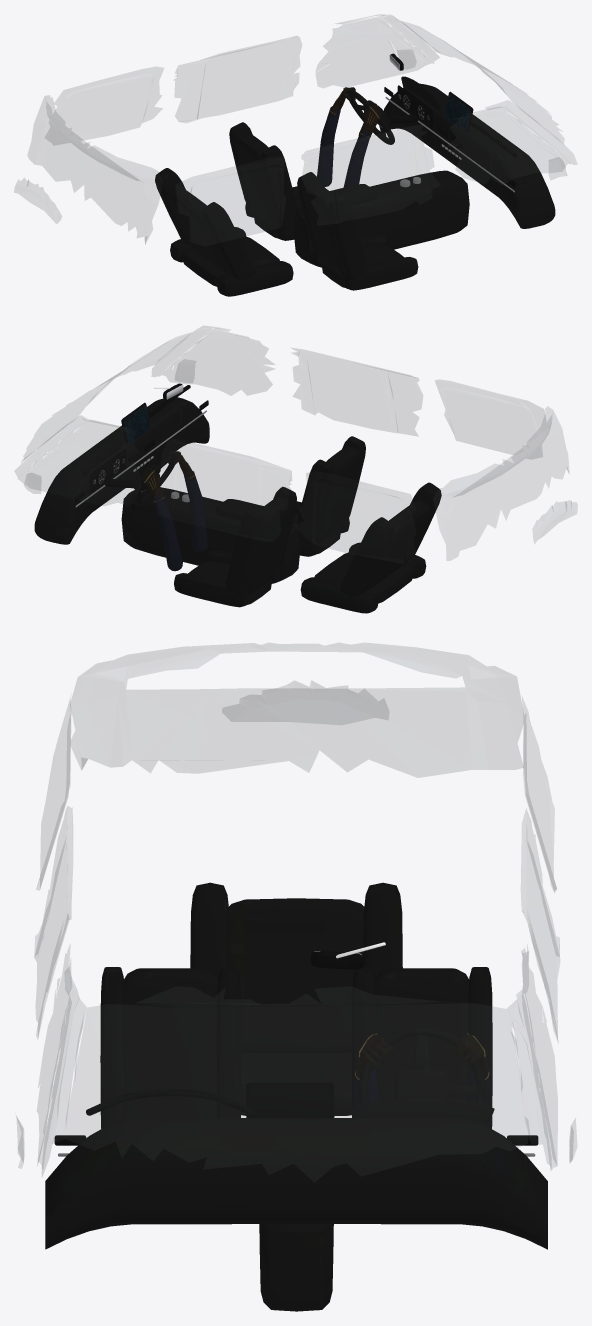
File: rb_ridgeback_cockpit_low.glb
The picture shows the model from 3 angles, top to bottom: view 1: azimuth 30°, elevation 25°; view 2: azimuth 150°, elevation 25°; view 3: azimuth 270°, elevation 25°; orthographic projection. The views are drawn at different scales.
Visible parts, largest first — view 1: cabin_glass, cockpit_shell, window_R, window_L, hands, steering_wheel; view 2: cabin_glass, cockpit_shell, window_L, window_R, hands, steering_wheel; view 3: cabin_glass, cockpit_shell, window_L, window_R, steering_wheel, hands.
Boxes of the visible parts, left/top/right/bottom form: cabin_glass: left=14, top=15, right=563, bottom=245; cockpit_shell: left=155, top=39, right=555, bottom=296; window_R: left=449, top=100, right=576, bottom=184; window_L: left=316, top=15, right=439, bottom=87; hands: left=317, top=87, right=382, bottom=187; steering_wheel: left=347, top=90, right=394, bottom=144; cabin_glass: left=22, top=328, right=577, bottom=563; cockpit_shell: left=34, top=383, right=441, bottom=613; window_L: left=15, top=415, right=140, bottom=505; window_R: left=152, top=326, right=273, bottom=395; hands: left=140, top=451, right=208, bottom=571; steering_wheel: left=128, top=454, right=176, bottom=509; cabin_glass: left=34, top=643, right=559, bottom=1181; cockpit_shell: left=45, top=882, right=547, bottom=1311; window_L: left=512, top=946, right=576, bottom=1169; window_R: left=16, top=946, right=82, bottom=1175; steering_wheel: left=358, top=1026, right=485, bottom=1104; hands: left=355, top=1033, right=489, bottom=1105.
Bounding box in the file's own units: 3.37 × 1.19 × 1.8.
Materials: 4 (2 with a texture image).
